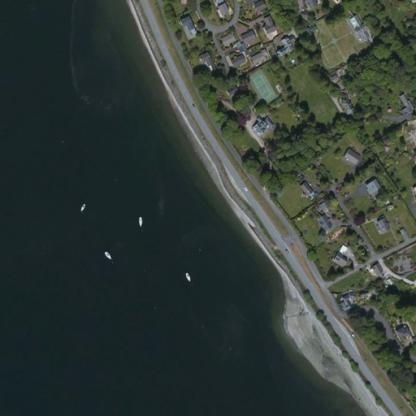ship: (135, 214, 144, 226), (102, 250, 112, 259), (79, 202, 85, 212), (185, 271, 190, 281)
